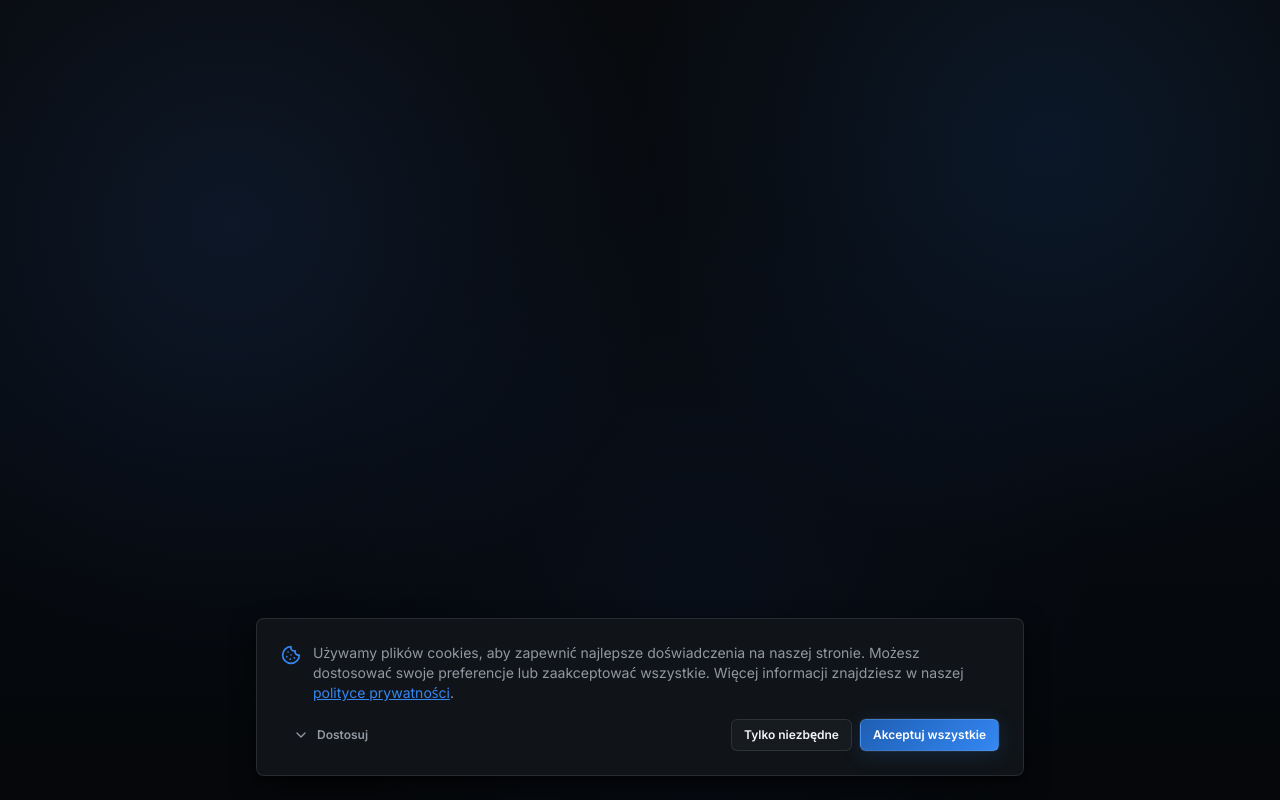
Scenario: CookieConsent a11y (WCAG 4.1.2, 2.1.2) › "Dostosuj" opens a named dialog whose switches have names
The image size is (1280, 800).
Click the button "Dostosuj". click: (331, 735)
box: [281, 719, 380, 751]
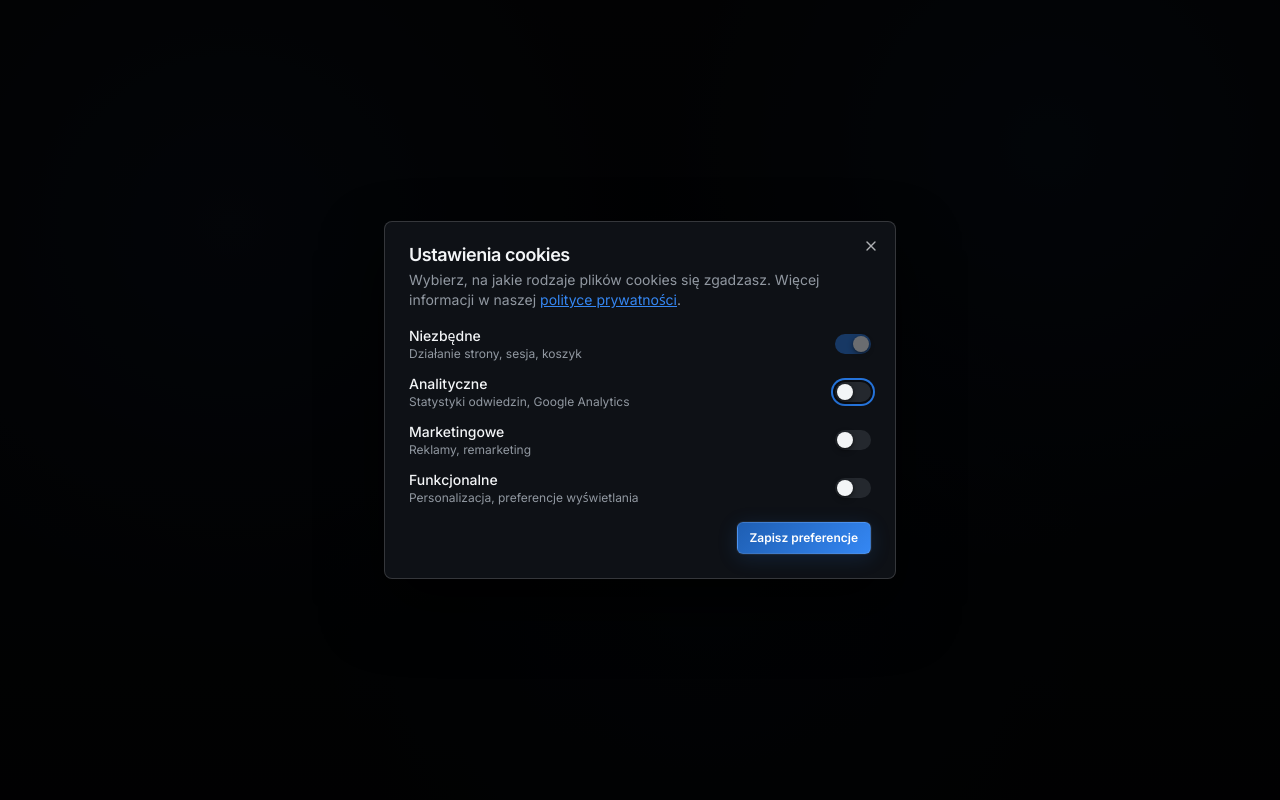
expect the dialog "Ustawienia cookies" is shown: met, box [384, 221, 896, 579]
expect the switch named "Analityczne" in the row of "Statystyki odwiedzin, Google Analytics" is shown: met, box [835, 382, 871, 402]
expect the switch named "Niezbędne" in the row of "Działanie strony, sesja, koszyk" is disabled: met, box [835, 334, 871, 354]
